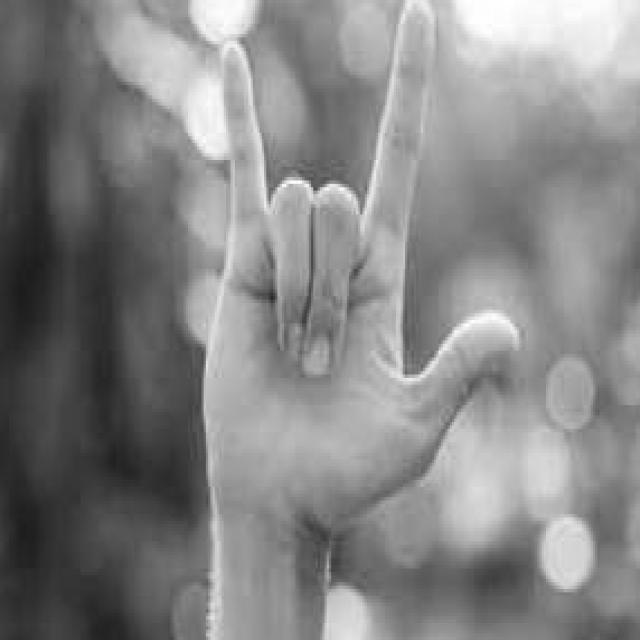i love you: (195, 0, 526, 596)
